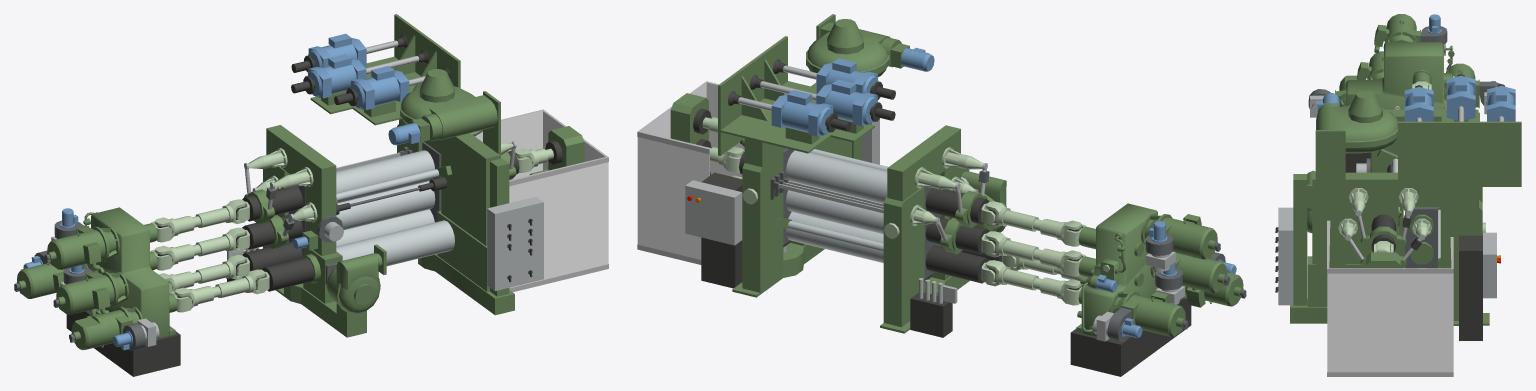
File: MainCalenderRolls.FBX
The picture shows the model from 3 angles, left to right: view 1: azimuth 30°, elevation 25°; view 2: azimuth 150°, elevation 25°; view 3: azimuth 270°, elevation 25°; orthographic projection. The views are drawn at different scales.
Parts seen in each view (by area): view 1: Object_01_MainCalenderRolls; view 2: Object_01_MainCalenderRolls; view 3: Object_01_MainCalenderRolls.
Boxes of the visible parts, <box> form: Object_01_MainCalenderRolls: <box>14,14,608,376</box>; Object_01_MainCalenderRolls: <box>637,14,1246,376</box>; Object_01_MainCalenderRolls: <box>1275,14,1521,376</box>.
Bounding box in the file's own units: 67.01 × 26.65 × 28.19.
